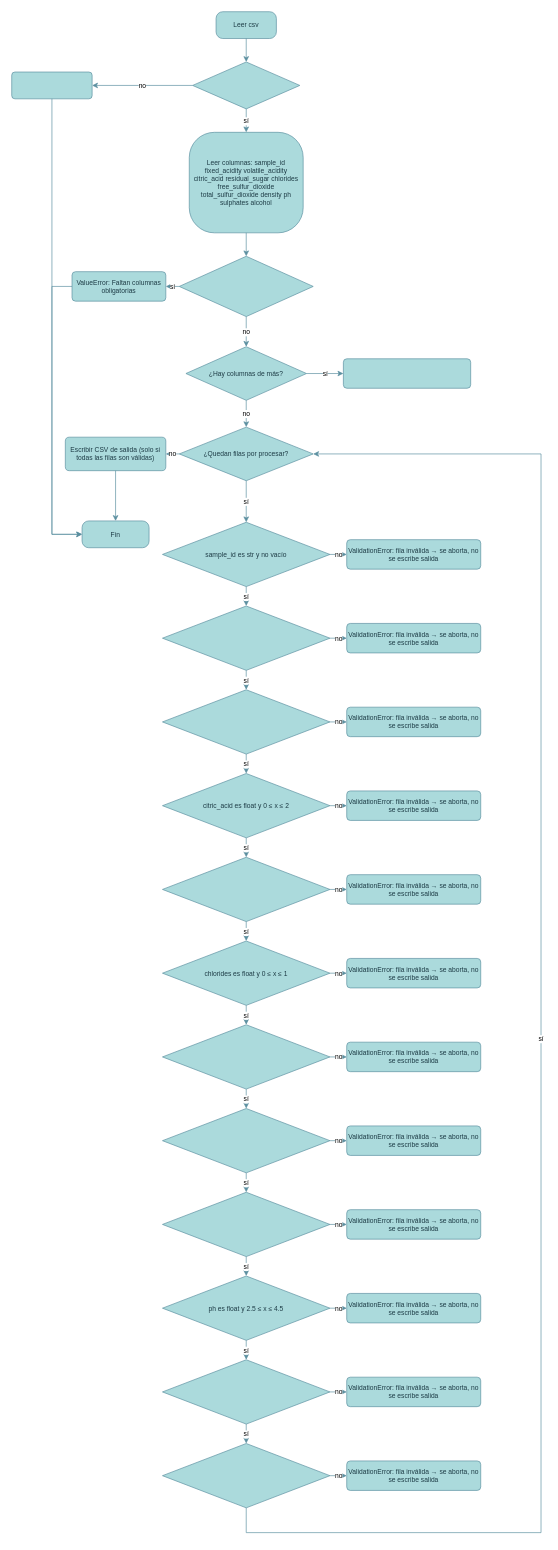
Image size: 558x1550. Some labels were removed from this diagram. The shapes that lost their labels are listed below. From the top down, each one's centre as x and y in pixels, then its label:
At pixel 51 85: "Error: no existe el csv".
At pixel 246 85: "¿Existe el csv?".
At pixel 246 286: "¿Falta alguna columna obligatoria?".
At pixel 407 373: "ValueError: columna no permitida (extra=forbid)".
At pixel 246 637: "fixed_acidity es float y 0 ≤ x ≤ 20".
At pixel 246 721: "volatile_acidity es float y 0 ≤ x ≤ 2".
At pixel 246 889: "residual_sugar es float y 0 ≤ x ≤ 20".
At pixel 246 1056: "free_sulfur_dioxide es float y 0 ≤ x ≤ 100".
At pixel 246 1140: "total_sulfur_dioxide es float y 0 ≤ x ≤ 300".
At pixel 246 1224: "density es float y 0.98 ≤ x ≤ 1.01".
At pixel 246 1391: "sulphates es float y 0 ≤ x ≤ 3".
At pixel 246 1475: "alcohol es float y 5 ≤ x ≤ 20".
